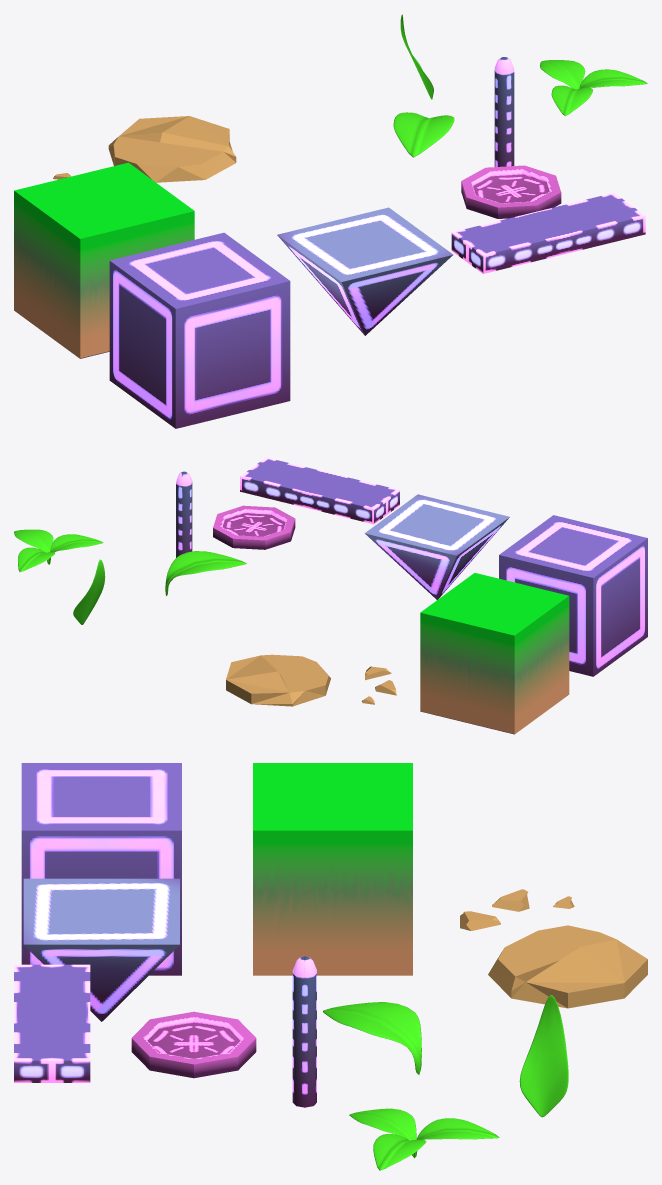
File: ассет.fbx
3 renders of one model, top to bottom at view 1: azimuth 30°, elevation 25°; view 2: azimuth 150°, elevation 25°; view 3: azimuth 270°, elevation 25°, orthographic. The views are drawn at different scales.
Visible parts, largest first — view 1: Cube, Cube.001, Cone, Cube.002, Cylinder, Cylinder.002, Cylinder.003, Plane.004, Plane, Plane.002, Plane.003; view 2: Cube.001, Cube, Cone, Cube.002, Cylinder, Cylinder.002, Plane.004, Cylinder.003, Plane.001, Plane.002, Plane.003, Plane; view 3: Cube.001, Cube, Cone, Cylinder, Cube.002, Cylinder.002, Plane.001, Cylinder.003, Plane.004, Plane.003, Plane, Plane.002 (+2 smaller).
Part boxes in pixels (x1=…): Cube: x1=109, y1=232, x2=290, y2=428; Cube.001: x1=14, y1=162, x2=194, y2=358; Cone: x1=277, y1=207, x2=453, y2=335; Cube.002: x1=451, y1=193, x2=645, y2=273; Cylinder: x1=108, y1=116, x2=236, y2=182; Cylinder.002: x1=461, y1=165, x2=561, y2=218; Cylinder.003: x1=494, y1=57, x2=514, y2=166; Plane.004: x1=393, y1=112, x2=454, y2=157; Plane: x1=540, y1=60, x2=585, y2=89; Plane.002: x1=579, y1=69, x2=647, y2=88; Plane.003: x1=551, y1=85, x2=592, y2=115; Cube.001: x1=420, y1=573, x2=569, y2=734; Cube: x1=499, y1=515, x2=647, y2=676; Cone: x1=364, y1=494, x2=509, y2=599; Cube.002: x1=240, y1=457, x2=399, y2=524; Cylinder: x1=226, y1=654, x2=330, y2=706; Cylinder.002: x1=213, y1=505, x2=295, y2=549; Plane.004: x1=165, y1=551, x2=246, y2=596; Cylinder.003: x1=176, y1=471, x2=192, y2=557; Plane.001: x1=73, y1=559, x2=105, y2=624; Plane.002: x1=14, y1=529, x2=53, y2=564; Plane.003: x1=48, y1=534, x2=103, y2=564; Plane: x1=18, y1=547, x2=54, y2=571; Cube.001: x1=253, y1=763, x2=412, y2=975; Cube: x1=21, y1=763, x2=181, y2=975; Cone: x1=23, y1=878, x2=179, y2=1021; Cylinder: x1=488, y1=925, x2=647, y2=1008; Cube.002: x1=14, y1=964, x2=90, y2=1082; Cylinder.002: x1=131, y1=1011, x2=256, y2=1078; Plane.001: x1=519, y1=995, x2=568, y2=1117; Cylinder.003: x1=292, y1=956, x2=316, y2=1107; Plane.004: x1=323, y1=1002, x2=421, y2=1074; Plane.003: x1=349, y1=1108, x2=416, y2=1157; Plane: x1=414, y1=1118, x2=499, y2=1158; Plane.002: x1=373, y1=1134, x2=426, y2=1170.
Bounding box in the file's own units: 1082 × 293 × 792.
Materials: 3 (1 with a texture image).
